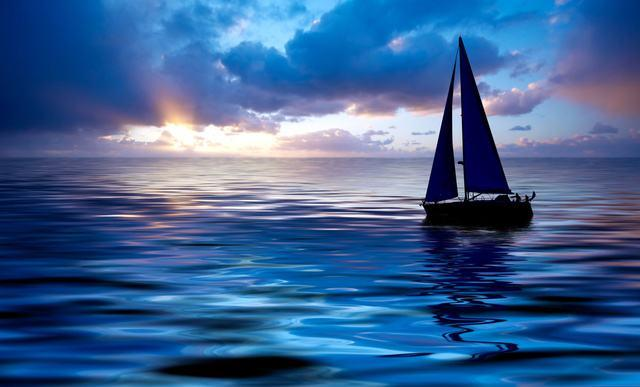fanchuan: (420, 35, 536, 226)
